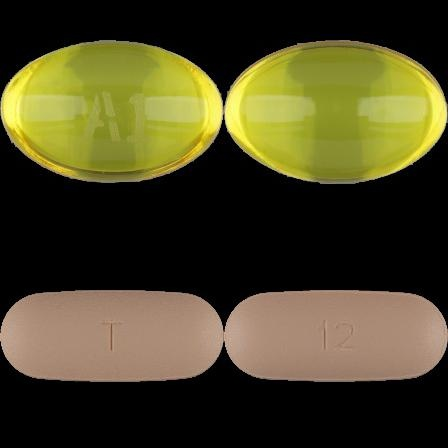64205-536: (0, 0, 224, 224)
